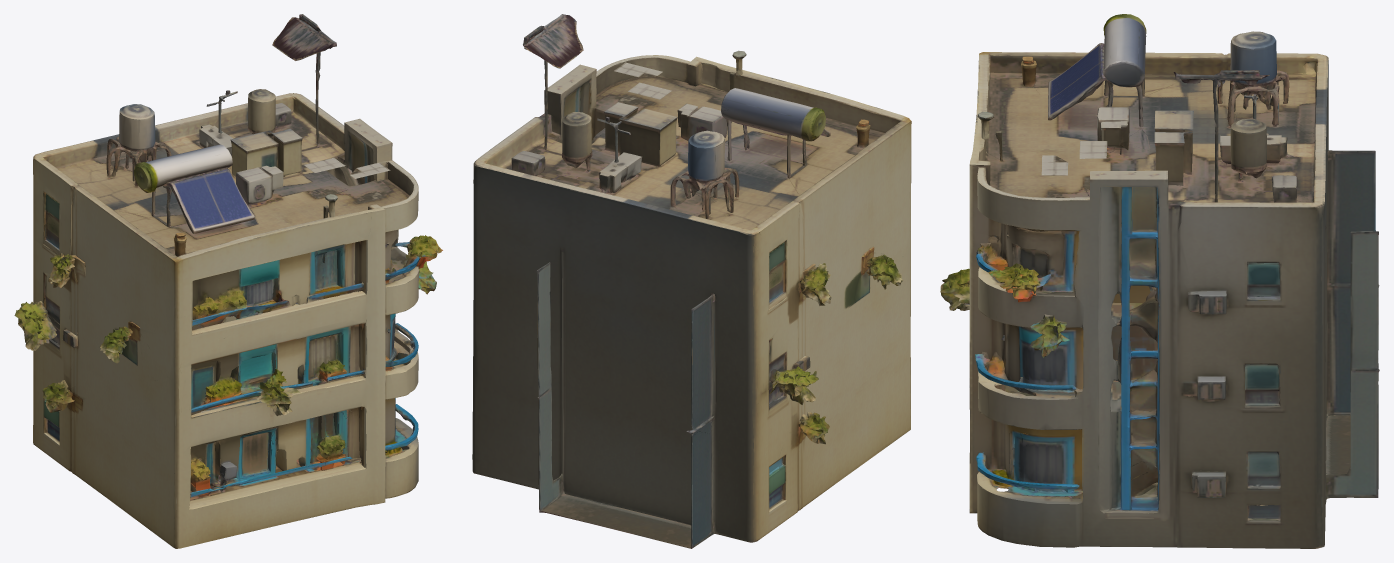
File: r3_bauhaus_cube.glb
3 renders of one model, left to right at view 1: azimuth 30°, elevation 25°; view 2: azimuth 150°, elevation 25°; view 3: azimuth 270°, elevation 25°, orthographic. The views are drawn at different scales.
Visible parts, largest first — view 1: geometry_0; view 2: geometry_0; view 3: geometry_0.
Boxes of the visible parts, x1=… form: geometry_0: x1=14, y1=14, x2=442, y2=548; geometry_0: x1=472, y1=14, x2=911, y2=548; geometry_0: x1=940, y1=14, x2=1379, y2=548.
Bounding box in the file's own units: 12 × 14 × 12.
Materials: 1 (1 with a texture image).
